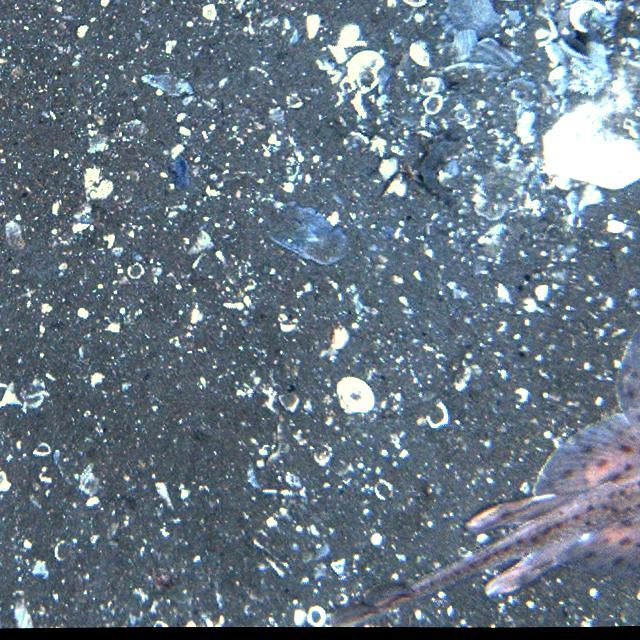skate: (321, 326, 640, 621)
